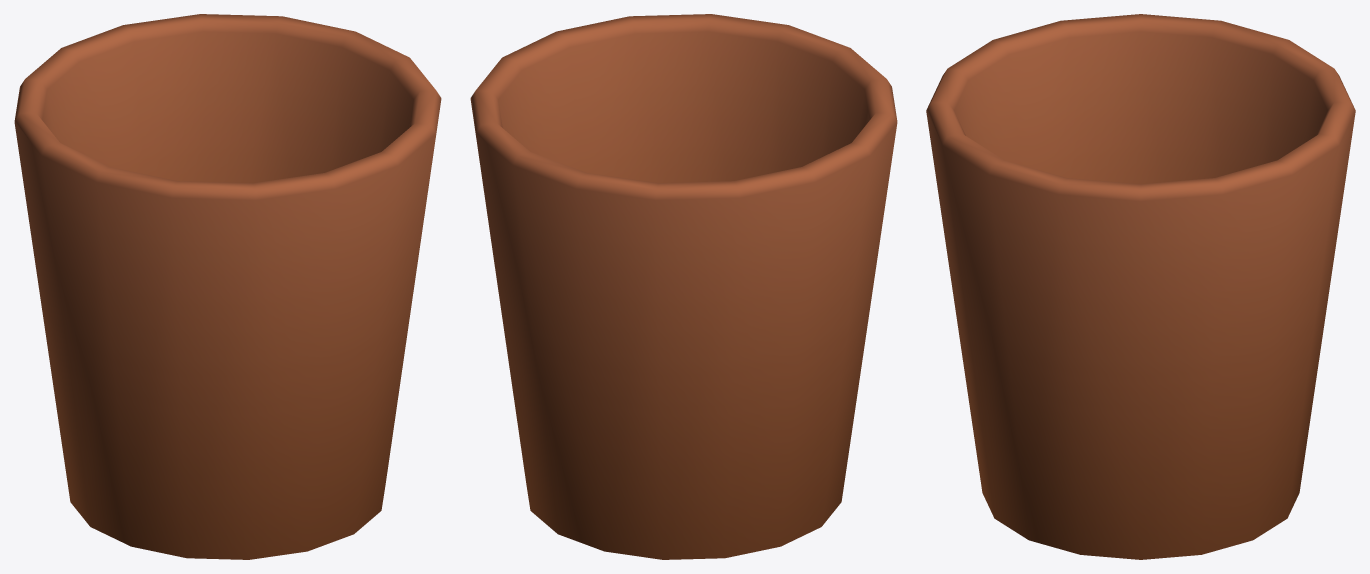
Rendered from Flowerpot.fbx.
3 renders of one model, left to right at view 1: azimuth 30°, elevation 25°; view 2: azimuth 150°, elevation 25°; view 3: azimuth 270°, elevation 25°, orthographic.
Visible parts, largest first — view 1: Flowerpot; view 2: Flowerpot; view 3: Flowerpot.
Boxes of the visible parts, box(x1,y1,x2,y2) form: Flowerpot: box(14, 14, 441, 559); Flowerpot: box(470, 14, 897, 559); Flowerpot: box(926, 14, 1355, 559).
Size of the model in its own units: 17.95 by 18 by 17.95.
